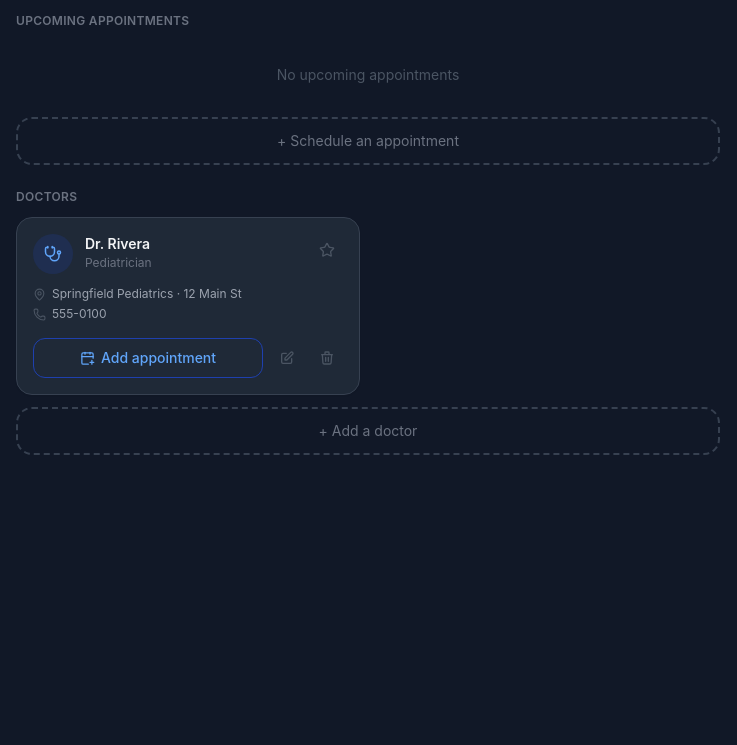
Test case: DoctorsPage › requires a doctor when scheduling from the top-level button
Expected: the text "Dr. Rivera" is shown, [85,234,150,253]
Click the button "+ Schedule an appointment" at (368, 141), box [16,117,720,165]
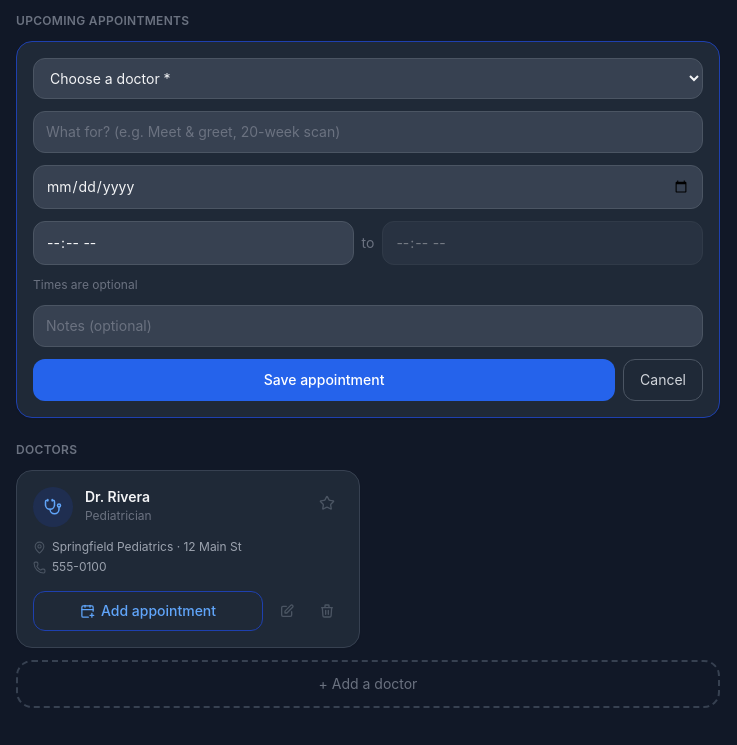
Type "2099-03-10" into the date field named "Date" at (368, 187), box [33,165,703,209]
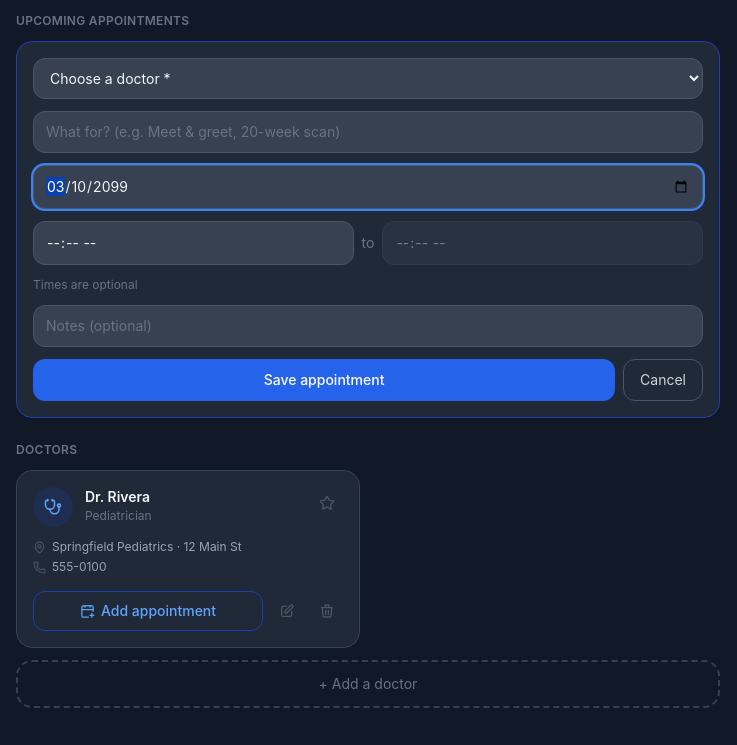
Click the button "Save appointment" at (324, 380), box [33,359,615,401]
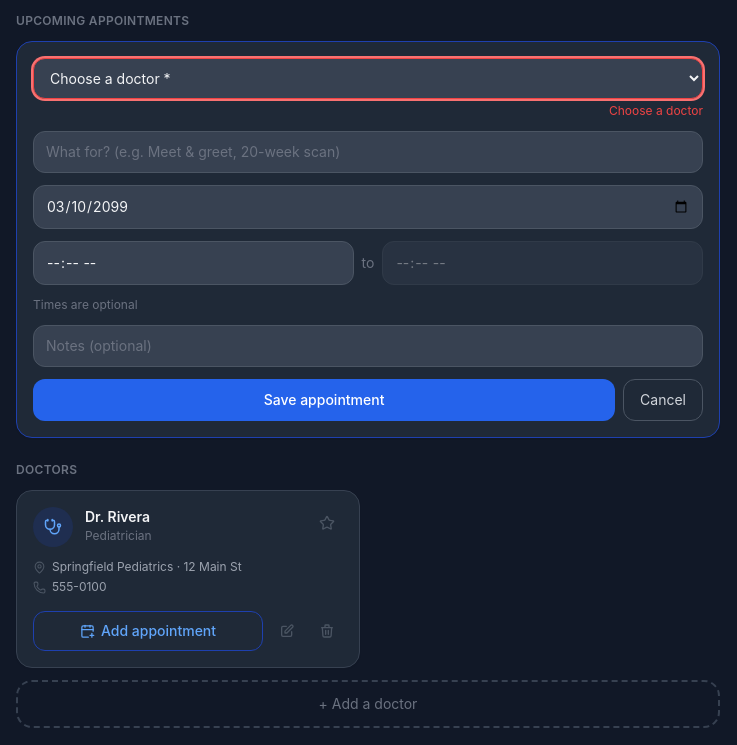
Result: the text "Choose a doctor" is shown at [609,103,703,118]
